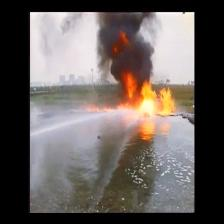fire: (126, 87, 177, 114)
smoke: (101, 13, 150, 74)
